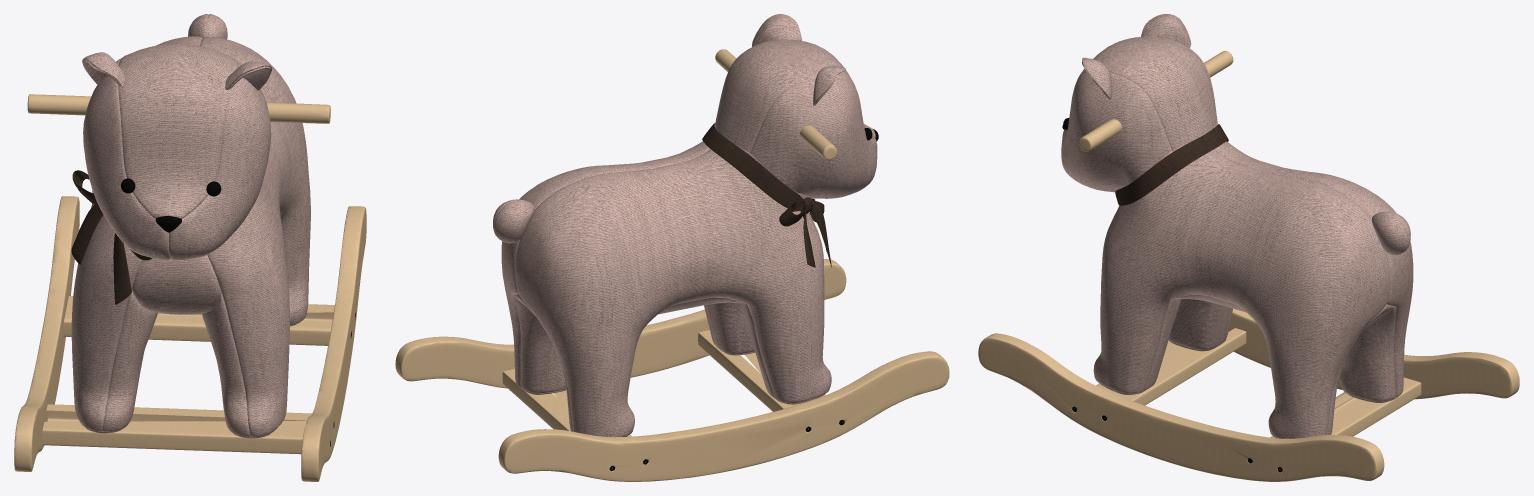
The model's file is caballo_mesedor.obj.
The picture shows the model from 3 angles, left to right: view 1: azimuth 30°, elevation 25°; view 2: azimuth 150°, elevation 25°; view 3: azimuth 270°, elevation 25°; orthographic projection. The views are drawn at different scales.
Parts seen in each view (by area): view 1: Mesh3 Body Bear_Plush_Rocker_VRay Model, Mesh14 Body Bear_Plush_Rocker_VRay Model, Mesh20 Body Bear_Plush_Rocker_VRay Model, Mesh12 Body Bear_Plush_Rocker_VRay Model, Mesh22 Base Bear_Plush_Rocker_VRay Model, Mesh19 Body Bear_Plush_Rocker_VRay Model, Mesh21 Base Bear_Plush_Rocker_VRay Model, Mesh25 Base Bear_Plush_Rocker_VRay Model, Mesh5 Body Bear_Plush_Rocker_VRay Model, Mesh6 Body Bear_Plush_Rocker_VRay Model, Mesh16 Body Bear_Plush_Rocker_VRay Model, Mesh23 Base Bear_Plush_Rocker_VRay Model (+9 smaller); view 2: Mesh12 Body Bear_Plush_Rocker_VRay Model, Mesh21 Base Bear_Plush_Rocker_VRay Model, Mesh19 Body Bear_Plush_Rocker_VRay Model, Mesh22 Base Bear_Plush_Rocker_VRay Model, Mesh14 Body Bear_Plush_Rocker_VRay Model, Mesh3 Body Bear_Plush_Rocker_VRay Model, Mesh2 Body Bear_Plush_Rocker_VRay Model, Mesh31 Base Bear_Plush_Rocker_VRay Model, Mesh16 Body Bear_Plush_Rocker_VRay Model, Mesh26 Base Bear_Plush_Rocker_VRay Model, Mesh24 Base Bear_Plush_Rocker_VRay Model, Mesh11 Body Bear_Plush_Rocker_VRay Model (+4 smaller); view 3: Mesh3 Body Bear_Plush_Rocker_VRay Model, Mesh22 Base Bear_Plush_Rocker_VRay Model, Mesh20 Body Bear_Plush_Rocker_VRay Model, Mesh14 Body Bear_Plush_Rocker_VRay Model, Mesh21 Base Bear_Plush_Rocker_VRay Model, Mesh12 Body Bear_Plush_Rocker_VRay Model, Mesh1 Body Bear_Plush_Rocker_VRay Model, Mesh6 Body Bear_Plush_Rocker_VRay Model, Mesh31 Base Bear_Plush_Rocker_VRay Model, Mesh26 Base Bear_Plush_Rocker_VRay Model, Mesh24 Base Bear_Plush_Rocker_VRay Model, Mesh23 Base Bear_Plush_Rocker_VRay Model (+5 smaller).
Boxes of the visible parts, <box> form: Mesh3 Body Bear_Plush_Rocker_VRay Model: <box>200,37,310,436</box>; Mesh14 Body Bear_Plush_Rocker_VRay Model: <box>118,43,238,218</box>; Mesh20 Body Bear_Plush_Rocker_VRay Model: <box>169,62,271,260</box>; Mesh12 Body Bear_Plush_Rocker_VRay Model: <box>71,36,202,431</box>; Mesh22 Base Bear_Plush_Rocker_VRay Model: <box>301,206,366,481</box>; Mesh19 Body Bear_Plush_Rocker_VRay Model: <box>83,58,169,259</box>; Mesh21 Base Bear_Plush_Rocker_VRay Model: <box>14,196,79,471</box>; Mesh25 Base Bear_Plush_Rocker_VRay Model: <box>42,421,306,454</box>; Mesh5 Body Bear_Plush_Rocker_VRay Model: <box>132,255,221,314</box>; Mesh6 Body Bear_Plush_Rocker_VRay Model: <box>102,291,157,431</box>; Mesh16 Body Bear_Plush_Rocker_VRay Model: <box>202,293,250,436</box>; Mesh23 Base Bear_Plush_Rocker_VRay Model: <box>27,94,330,123</box>; Mesh12 Body Bear_Plush_Rocker_VRay Model: <box>515,150,831,437</box>; Mesh21 Base Bear_Plush_Rocker_VRay Model: <box>498,351,949,481</box>; Mesh19 Body Bear_Plush_Rocker_VRay Model: <box>750,78,877,198</box>; Mesh22 Base Bear_Plush_Rocker_VRay Model: <box>395,259,846,388</box>; Mesh14 Body Bear_Plush_Rocker_VRay Model: <box>715,39,875,152</box>; Mesh3 Body Bear_Plush_Rocker_VRay Model: <box>501,141,714,387</box>; Mesh2 Body Bear_Plush_Rocker_VRay Model: <box>514,297,566,393</box>; Mesh31 Base Bear_Plush_Rocker_VRay Model: <box>702,123,814,208</box>; Mesh16 Body Bear_Plush_Rocker_VRay Model: <box>705,302,754,354</box>; Mesh26 Base Bear_Plush_Rocker_VRay Model: <box>698,330,795,411</box>; Mesh24 Base Bear_Plush_Rocker_VRay Model: <box>502,369,570,431</box>; Mesh11 Body Bear_Plush_Rocker_VRay Model: <box>494,200,534,243</box>; Mesh3 Body Bear_Plush_Rocker_VRay Model: <box>1093,150,1389,438</box>; Mesh22 Base Bear_Plush_Rocker_VRay Model: <box>978,333,1384,481</box>; Mesh20 Body Bear_Plush_Rocker_VRay Model: <box>1061,72,1171,192</box>; Mesh14 Body Bear_Plush_Rocker_VRay Model: <box>1077,36,1217,150</box>; Mesh21 Base Bear_Plush_Rocker_VRay Model: <box>1228,308,1519,399</box>; Mesh12 Body Bear_Plush_Rocker_VRay Model: <box>1216,141,1413,396</box>; Mesh1 Body Bear_Plush_Rocker_VRay Model: <box>1340,307,1395,401</box>; Mesh6 Body Bear_Plush_Rocker_VRay Model: <box>1168,299,1229,350</box>; Mesh31 Base Bear_Plush_Rocker_VRay Model: <box>1115,124,1228,205</box>; Mesh26 Base Bear_Plush_Rocker_VRay Model: <box>1121,328,1246,405</box>; Mesh24 Base Bear_Plush_Rocker_VRay Model: <box>1331,377,1421,436</box>; Mesh23 Base Bear_Plush_Rocker_VRay Model: <box>1079,50,1233,151</box>.
Size of the model in its own units: 0.58 by 0.4624 by 0.6504.
